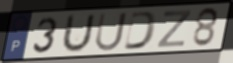3: (31, 16, 59, 54)
8: (190, 6, 220, 48)
D: (121, 10, 159, 52)
U: (59, 12, 97, 55), (93, 11, 129, 53)
Z: (155, 8, 193, 48)
